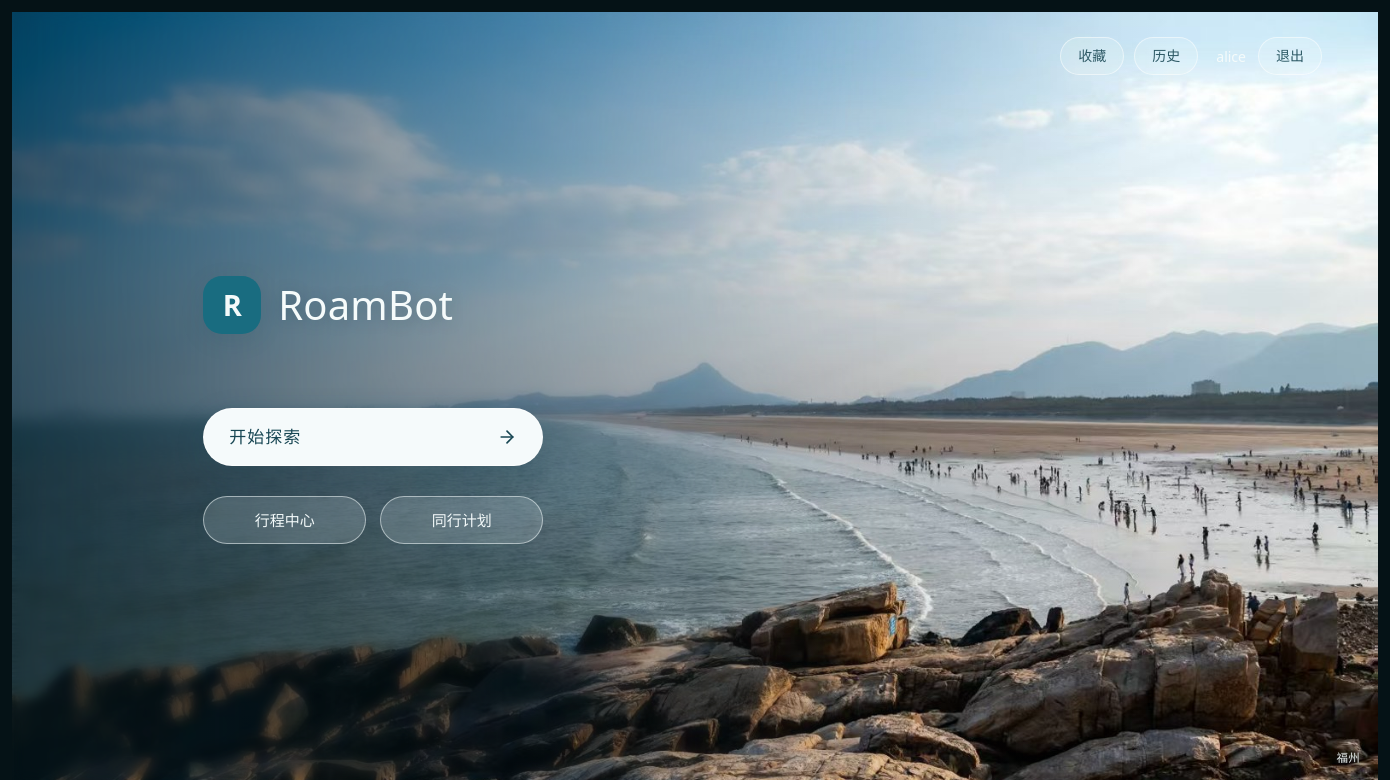
Test: HomePage › restores guest actions after a successful logout
The image size is (1390, 780).
What coordinates should you click on to do the following:
click the button with aria-label "退出登录"
I would click on:
 (1290, 56)
Its box is [1258,37,1322,75].
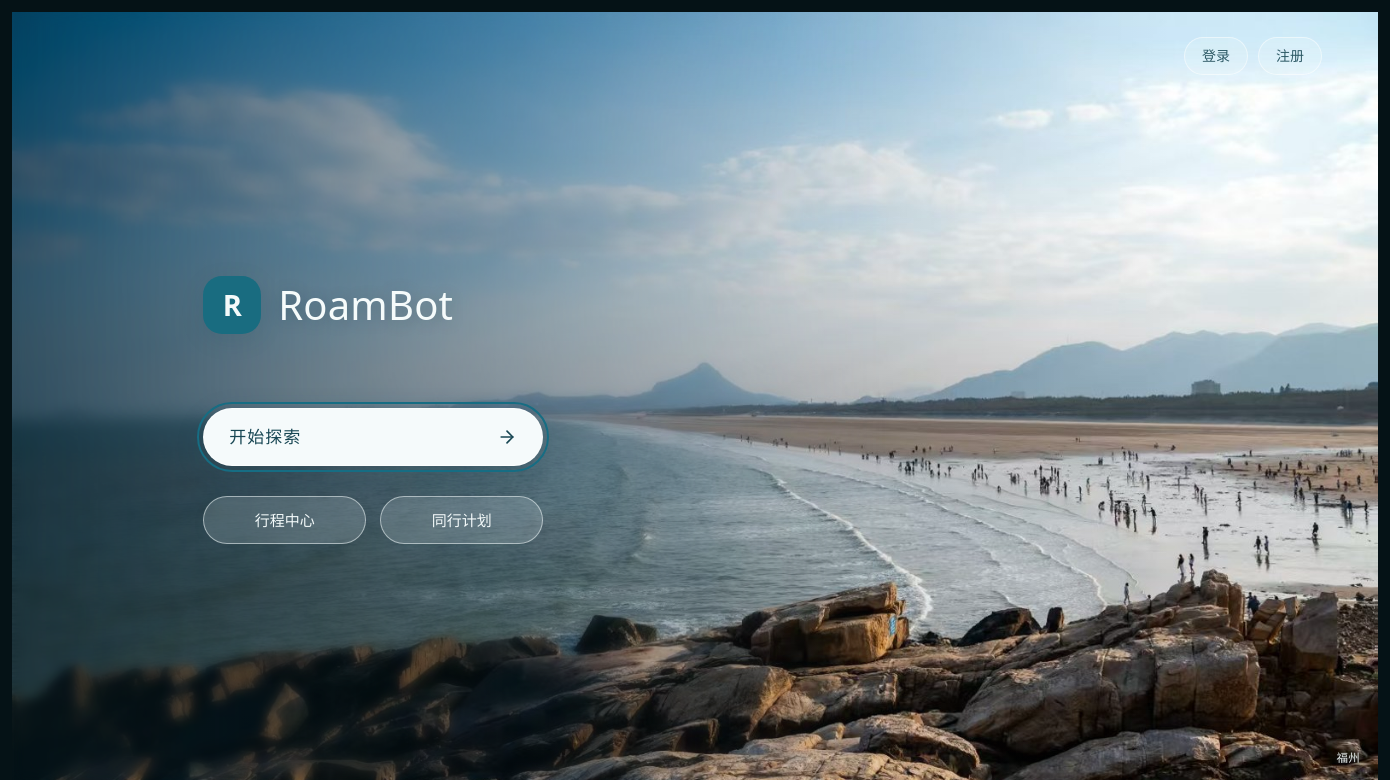
Result: the button "登录" is shown at [1184,37,1248,75]
